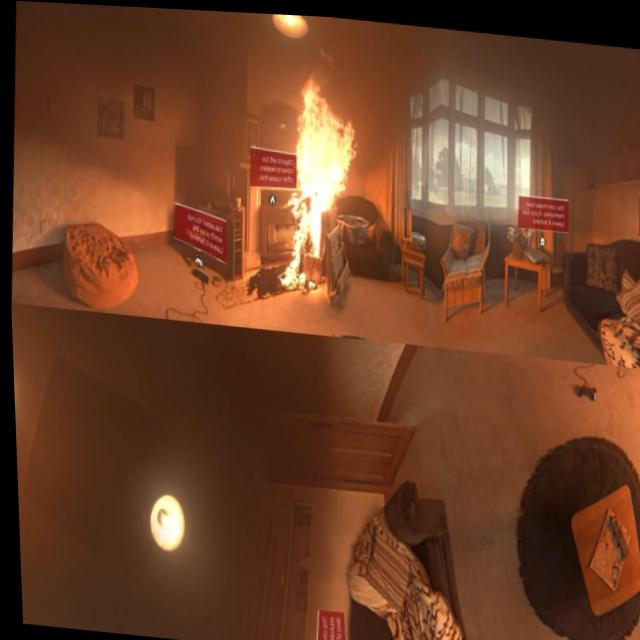fire: (271, 55, 363, 292)
